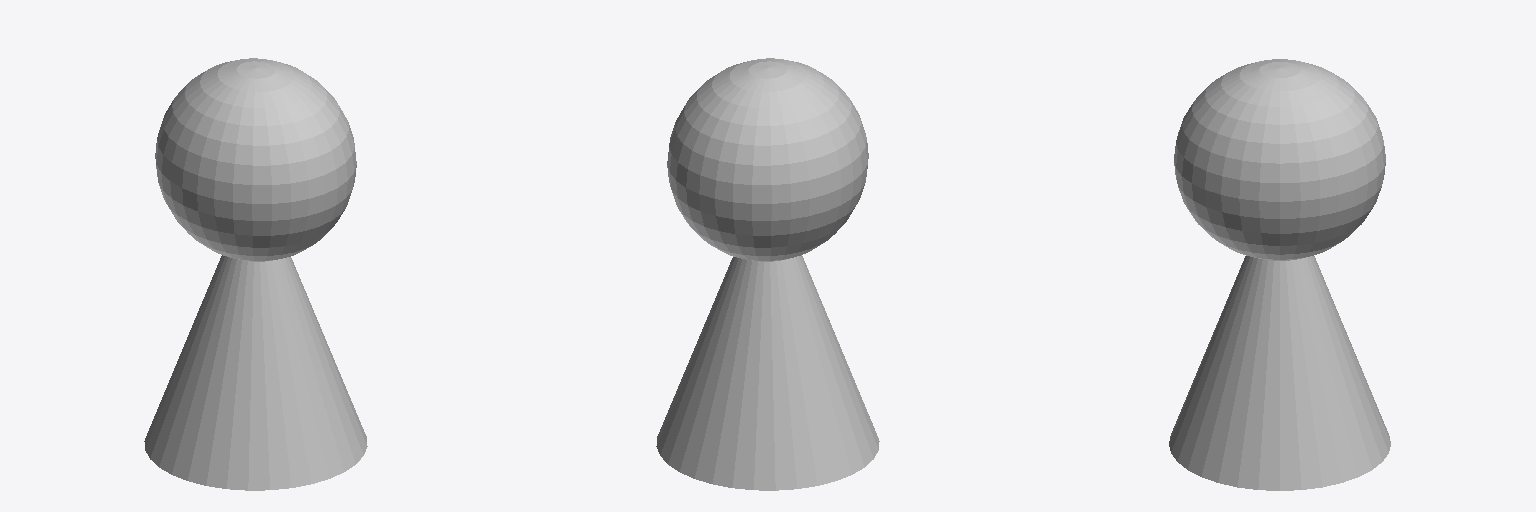
The model's file is avatar.obj.
The picture shows the model from 3 angles: view 1: azimuth 30°, elevation 25°; view 2: azimuth 150°, elevation 25°; view 3: azimuth 270°, elevation 25°; orthographic projection.
Visible parts, largest first — view 1: avatar_Sphere.001; view 2: avatar_Sphere.001; view 3: avatar_Sphere.001.
Part boxes in pixels (x1,y1,x2,y2): avatar_Sphere.001: (144, 58, 367, 490); avatar_Sphere.001: (656, 58, 879, 490); avatar_Sphere.001: (1169, 59, 1390, 490).
Bounding box in the file's own units: 2.64 × 4.89 × 2.62.